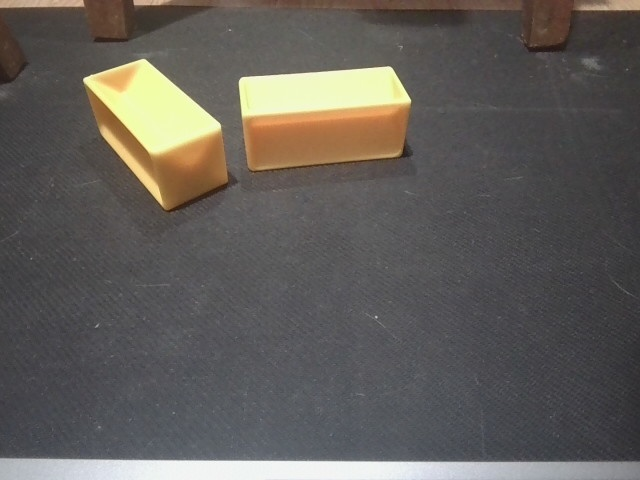YellowSample: (79, 56, 230, 212), (237, 64, 420, 173)
